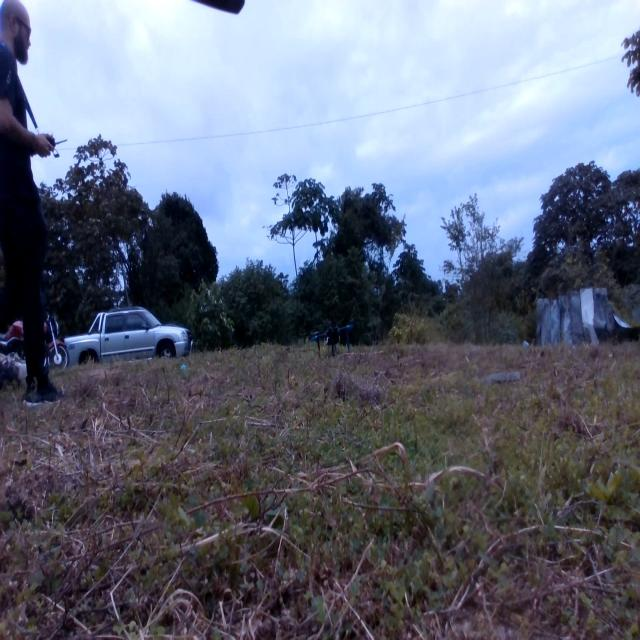-uav-: (304, 307, 363, 376)
